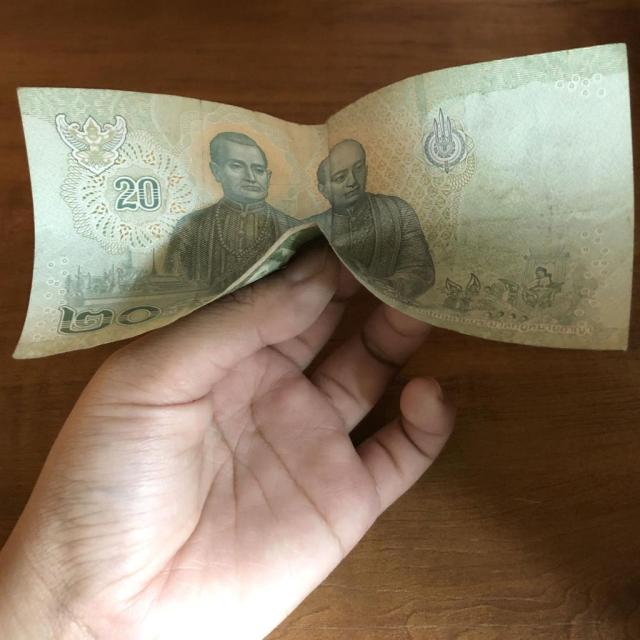THAI20: (14, 44, 634, 358)
